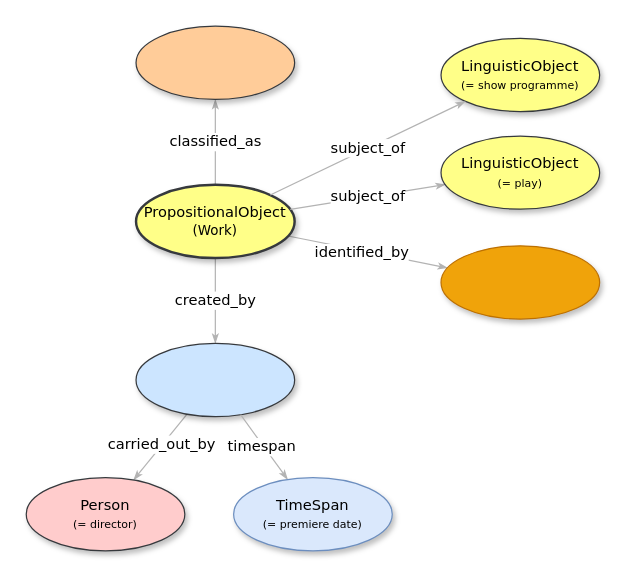
Image size: 628x581. Some labels were removed from this diagram. Here are the shapes that lost their labels. From the top down, the centre of each, then its label:
the point at 216,64: Type (Abstract Work)
the point at 521,284: Name (= literal title + language)
the point at 216,381: Creation
